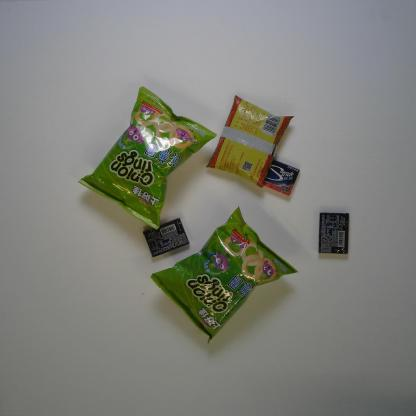Gum: (142, 216, 190, 258), (316, 210, 351, 256), (261, 158, 301, 197)
Puffed Food: (75, 85, 219, 230), (149, 205, 299, 344)
Seasoner: (204, 93, 295, 189)
